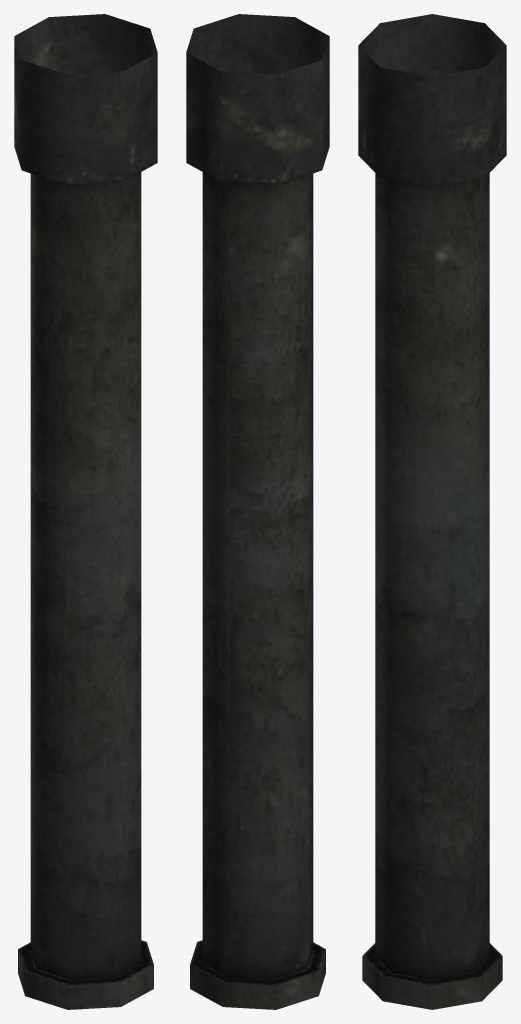
The model's file is ThickMetal_VerticalPipe_01.FBX.
3 renders of one model, left to right at view 1: azimuth 30°, elevation 25°; view 2: azimuth 150°, elevation 25°; view 3: azimuth 270°, elevation 25°, orthographic.
Parts seen in each view (by area): view 1: ThickMetal_VerticalPipe_01; view 2: ThickMetal_VerticalPipe_01; view 3: ThickMetal_VerticalPipe_01.
Boxes of the visible parts, x1,y1,x2,y2 form: ThickMetal_VerticalPipe_01: (14, 14, 157, 1009); ThickMetal_VerticalPipe_01: (186, 14, 329, 1009); ThickMetal_VerticalPipe_01: (358, 14, 506, 1009).
Size of the model in its own units: 39.86 by 278 by 39.86.
